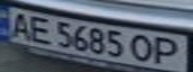5: (51, 19, 75, 49), (106, 28, 130, 58)
6: (69, 24, 90, 52)
8: (87, 26, 106, 55)
A: (3, 10, 36, 39)
E: (24, 14, 57, 45)
O: (127, 32, 160, 63)
P: (148, 35, 187, 66)
